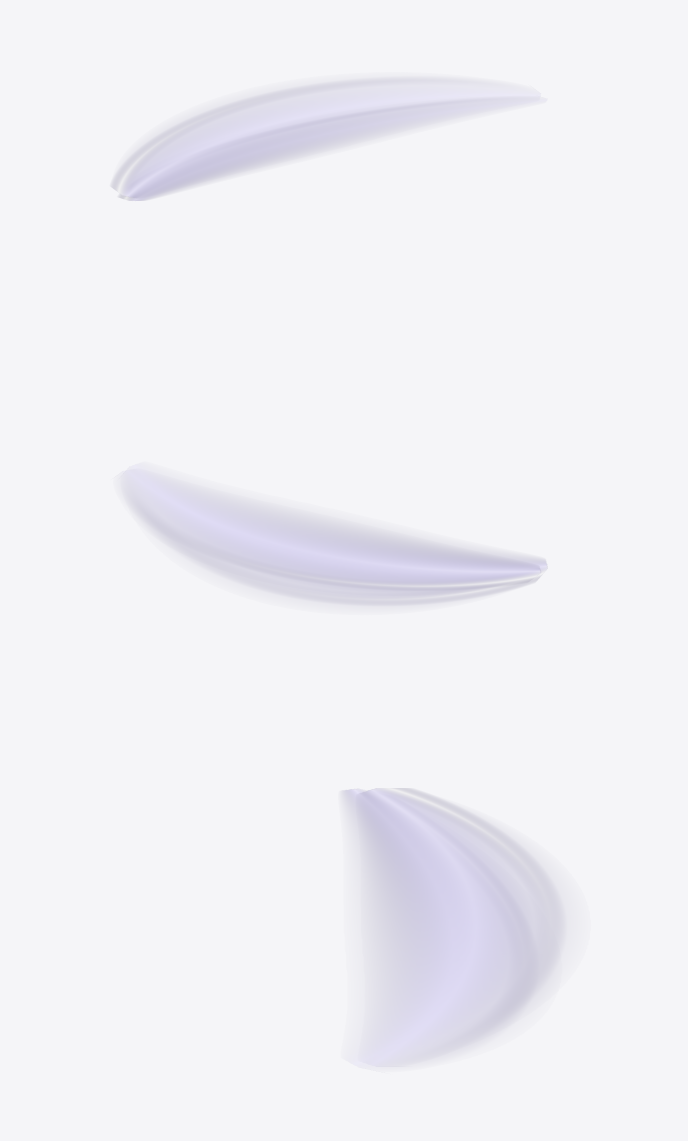
The model's file is fx_sw_fist.glb.
The picture shows the model from 3 angles, top to bottom: view 1: azimuth 30°, elevation 25°; view 2: azimuth 150°, elevation 25°; view 3: azimuth 270°, elevation 25°; orthographic projection. The views are drawn at different scales.
Visible parts, largest first — view 1: fx_sw; view 2: fx_sw; view 3: fx_sw.
Part boxes in pixels (bbox=[...]): fx_sw: bbox=[111, 77, 546, 200]; fx_sw: bbox=[117, 464, 547, 606]; fx_sw: bbox=[341, 788, 566, 1069].
Size of the model in its own units: 1 by 0.22 by 1.
1 material, 1 textured.
